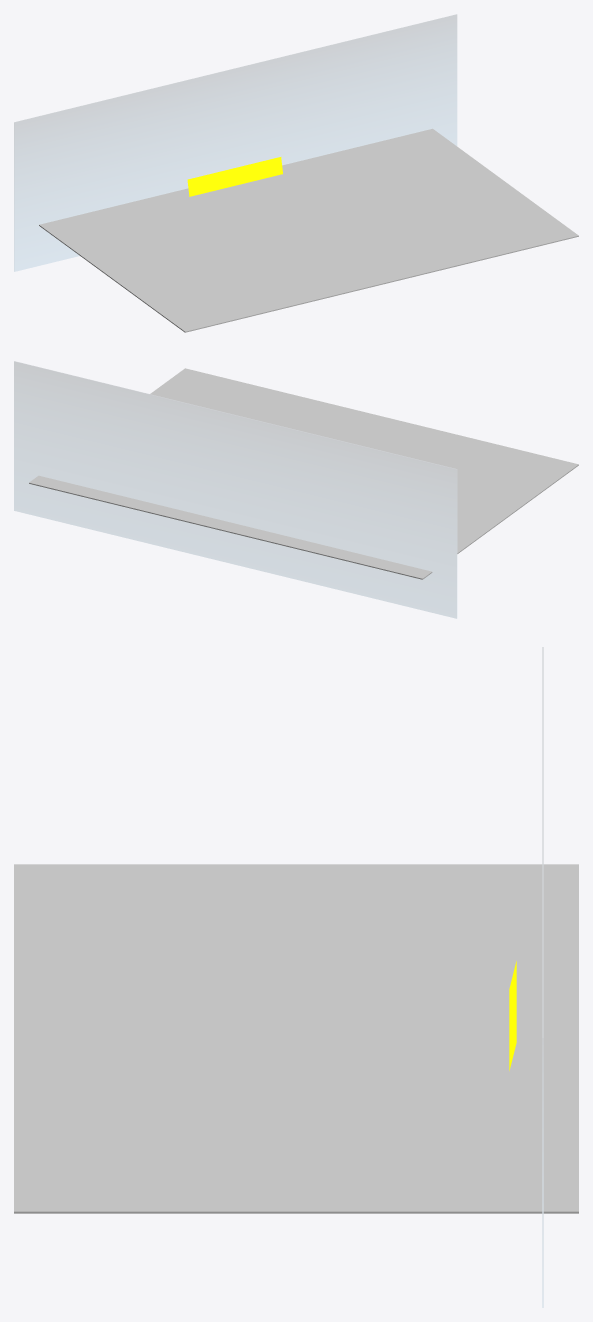
Rendered from f_intersex.glb.
The picture shows the model from 3 angles, top to bottom: view 1: azimuth 30°, elevation 25°; view 2: azimuth 150°, elevation 25°; view 3: azimuth 270°, elevation 25°; orthographic projection. The views are drawn at different scales.
Parts seen in each view (by area): view 1: Ground contact / transparent shadow receiver.040, Sky gradient / editable material.040, Flag cloth / full-bleed source fields.012; view 2: Sky gradient / editable material.040, Ground contact / transparent shadow receiver.040; view 3: Ground contact / transparent shadow receiver.040, Sky gradient / editable material.040.
Boxes of the visible parts, <box> form: Ground contact / transparent shadow receiver.040: <box>39,128,578,332</box>; Sky gradient / editable material.040: <box>14,14,457,271</box>; Flag cloth / full-bleed source fields.012: <box>187,157,282,196</box>; Sky gradient / editable material.040: <box>14,361,457,618</box>; Ground contact / transparent shadow receiver.040: <box>29,368,578,579</box>; Ground contact / transparent shadow receiver.040: <box>14,864,578,1213</box>; Sky gradient / editable material.040: <box>542,647,543,1307</box>.
Bounding box in the file's own units: 180 × 58 × 110.
